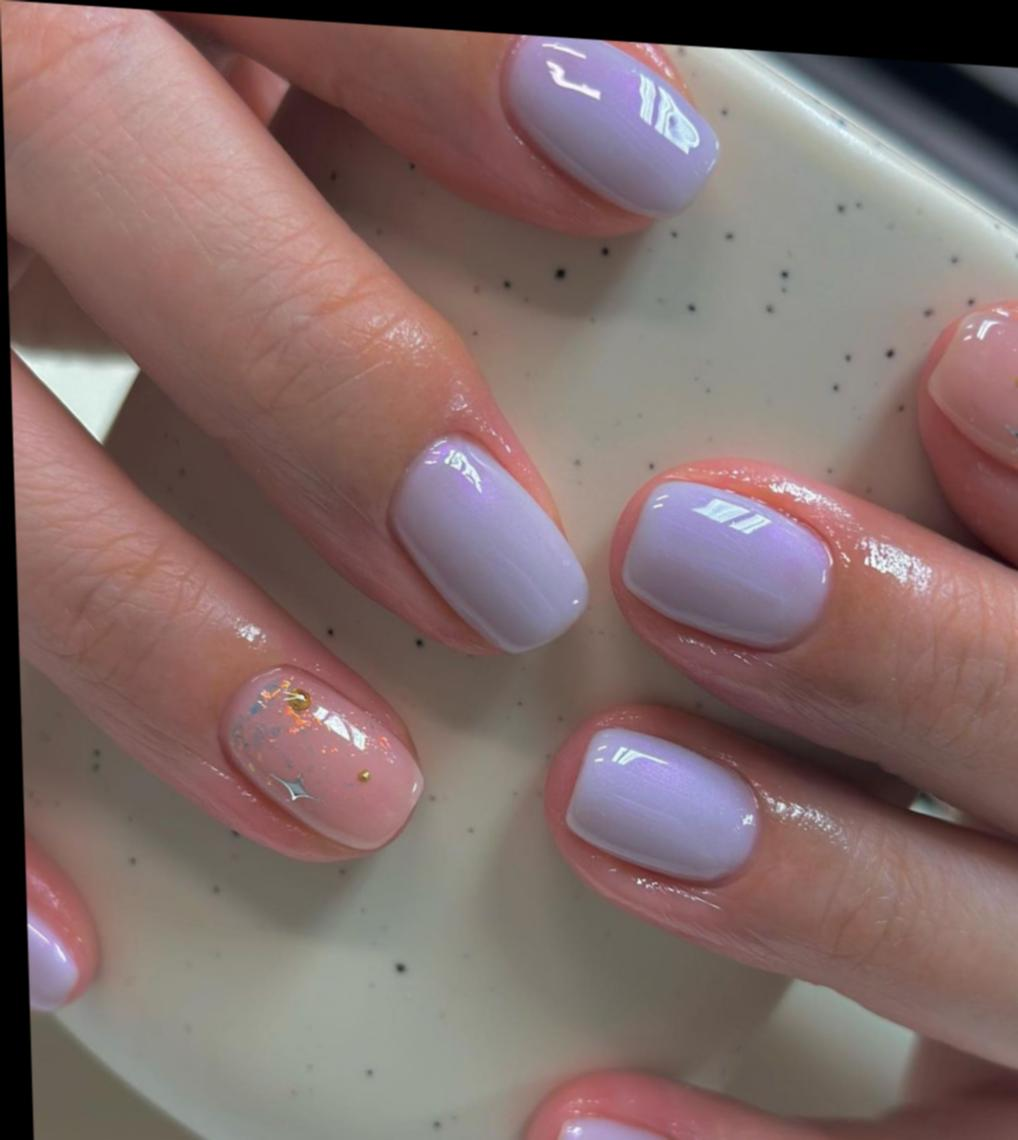nail: (382, 424, 591, 660), (494, 33, 722, 224), (214, 657, 427, 857), (618, 473, 836, 657), (560, 721, 763, 889), (23, 771, 102, 1017), (927, 307, 1018, 472), (536, 1109, 686, 1140)
